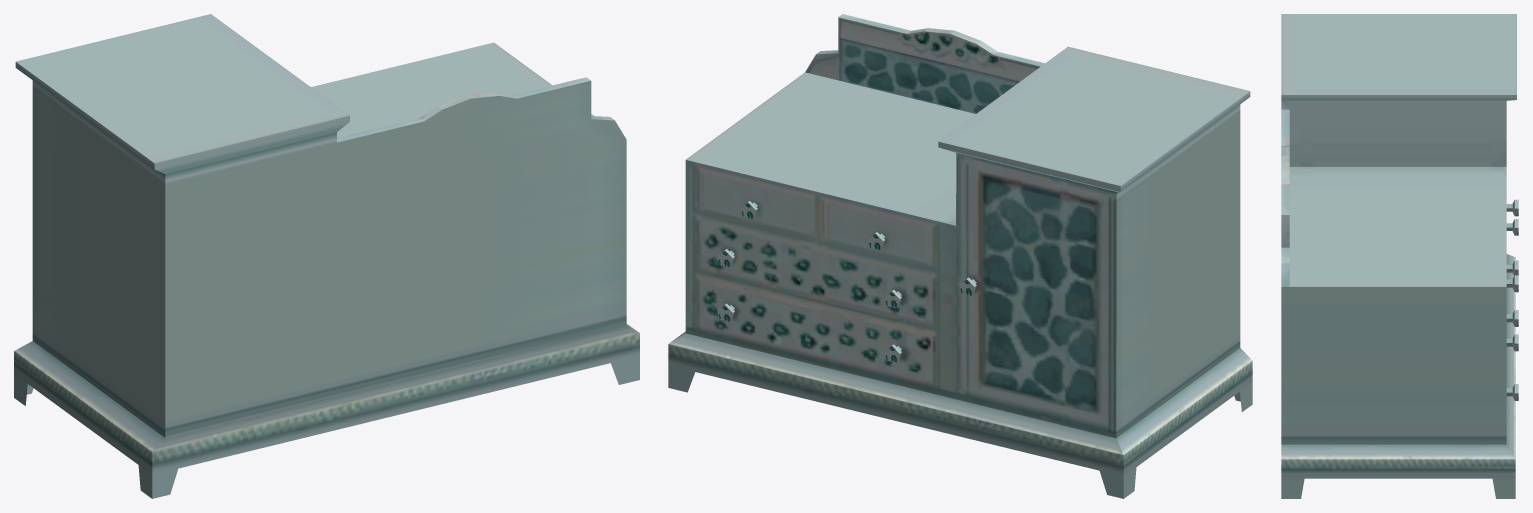
File: furni_0200127_03.FBX
The picture shows the model from 3 angles, left to right: view 1: azimuth 30°, elevation 25°; view 2: azimuth 150°, elevation 25°; view 3: azimuth 270°, elevation 25°; orthographic projection. The views are drawn at different scales.
Parts seen in each view (by area): view 1: furni_0200127_03; view 2: furni_0200127_03; view 3: furni_0200127_03.
Boxes of the visible parts, x1,y1,x2,y2 form: furni_0200127_03: (14,14,639,498); furni_0200127_03: (668,14,1252,498); furni_0200127_03: (1281,14,1518,498).
Bounding box in the file's own units: 160 × 105 × 79.45.
